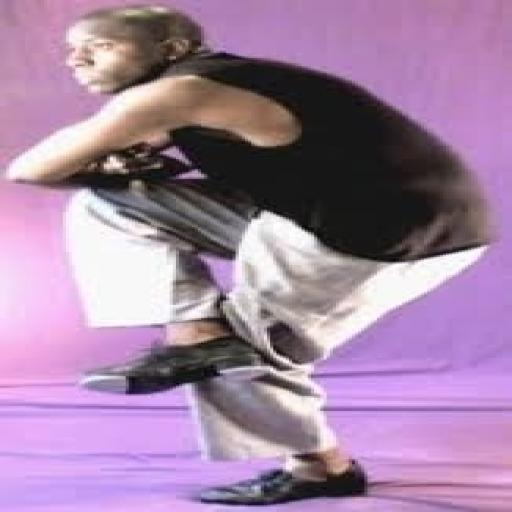dancing: (3, 3, 496, 507)
